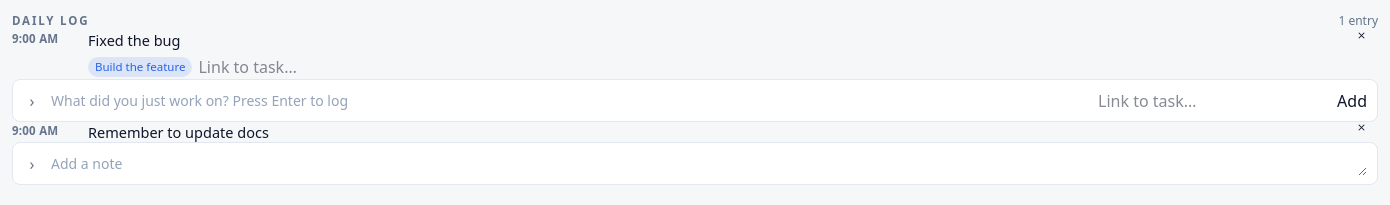
Scenario: journal notes and log acceptance › chord shortcuts with the new controls › l and n are typed, not treated as shortcuts, while the log edit input is focused
Click the button "Fixed the bug".
click(134, 40)  # box [88,30,180,50]
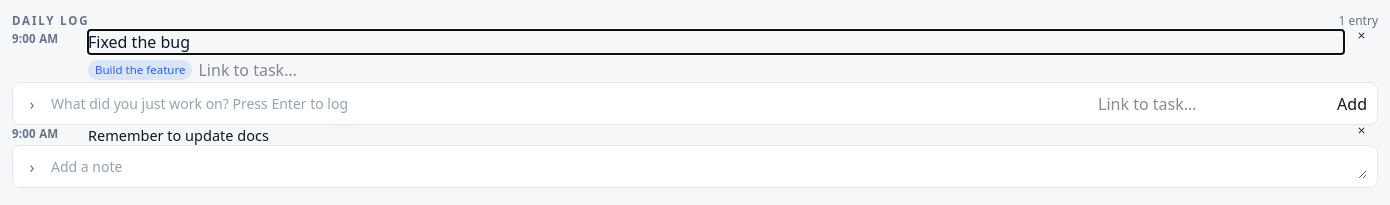
Type "ln" into the field named "Edit log entry".
click(716, 42); type("ln")  # box [88,30,1344,54]
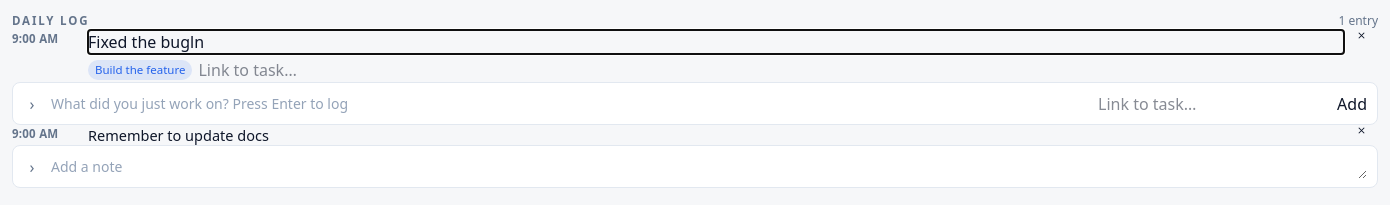
Now the field named "Edit log entry" holds "Fixed the bugln", box [88,30,1344,54]
